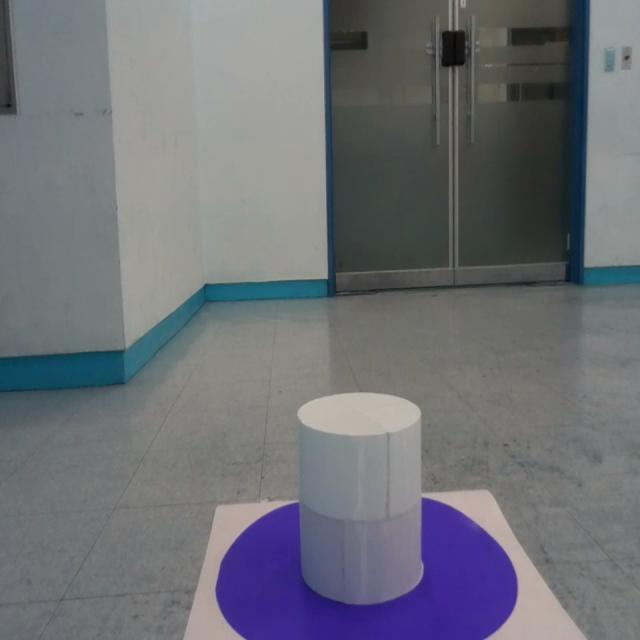cylinder: (295, 392, 423, 606)
